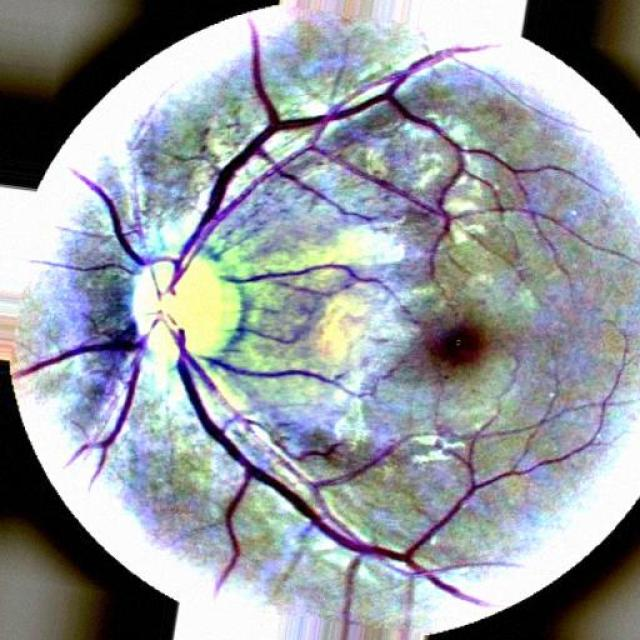Macula: (423, 303, 497, 387)
Nerves: (179, 374, 409, 578), (182, 47, 372, 237), (20, 333, 116, 381), (89, 171, 137, 256)
Optic Disk: (114, 244, 252, 380)
